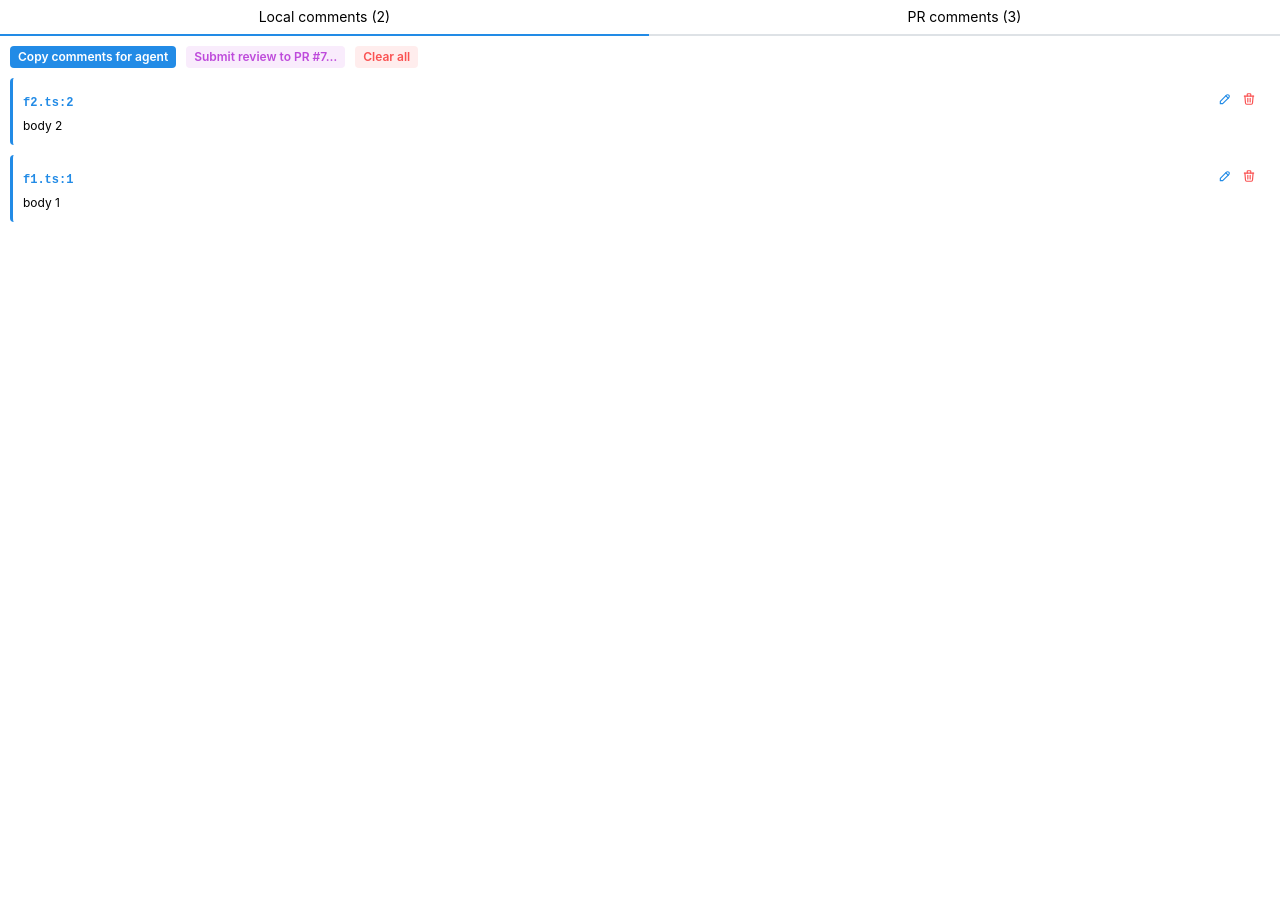
Test: ReviewSidebar pending PR review › offers Submit beside Copy comments for agent with a PR, with its tooltip
Hover over the button "Submit review to PR #7…".
mouse_move(266, 57)  # box [186,46,345,68]
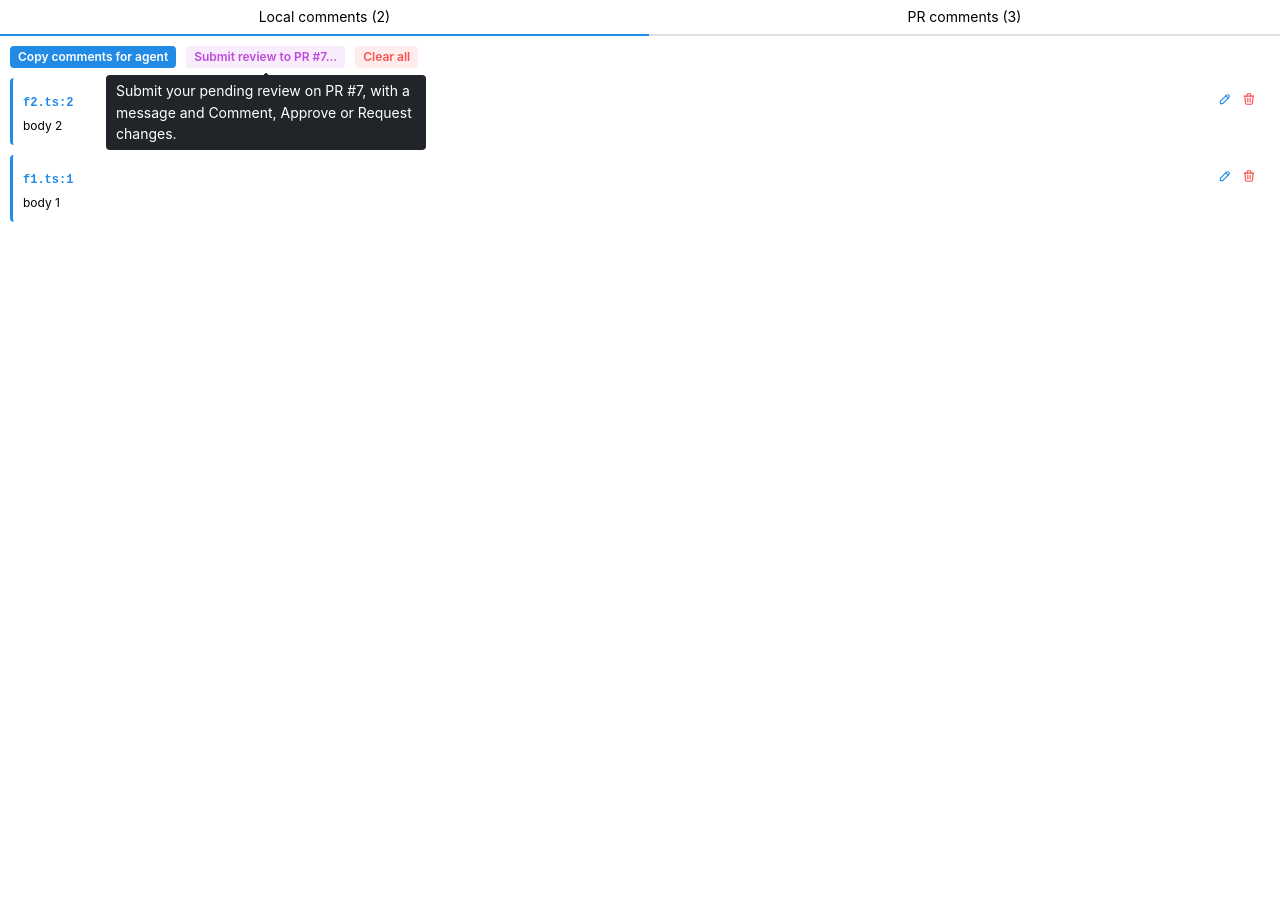
Expected: the tooltip "Submit your pending review on PR #7, with a message and Comment, Approve or Request changes." is shown, [116,82,412,142]
Click the button "Submit review to PR #7…".
click(266, 57)  # box [186,46,345,68]
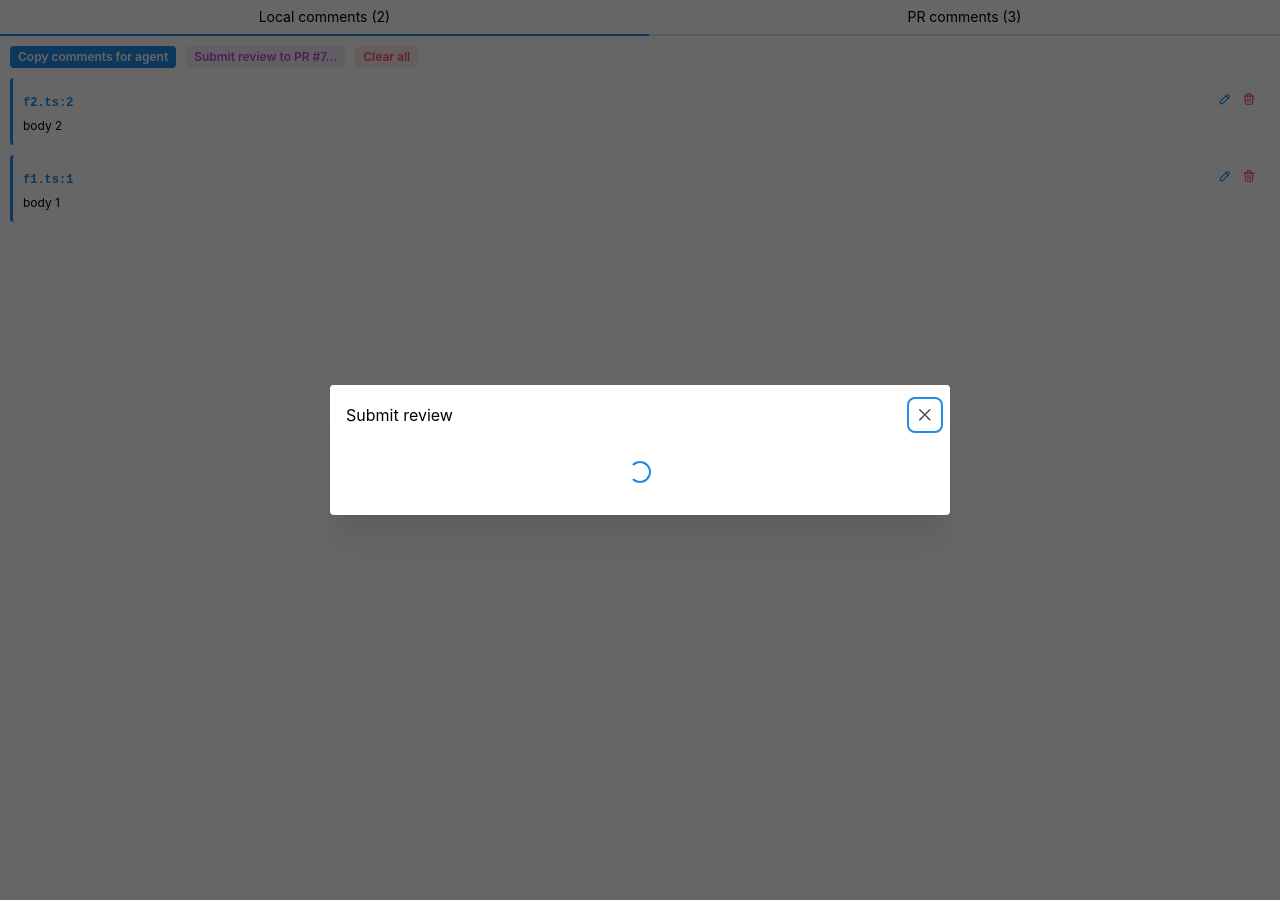
Expected: the dialog is shown, [330,385,950,515]
